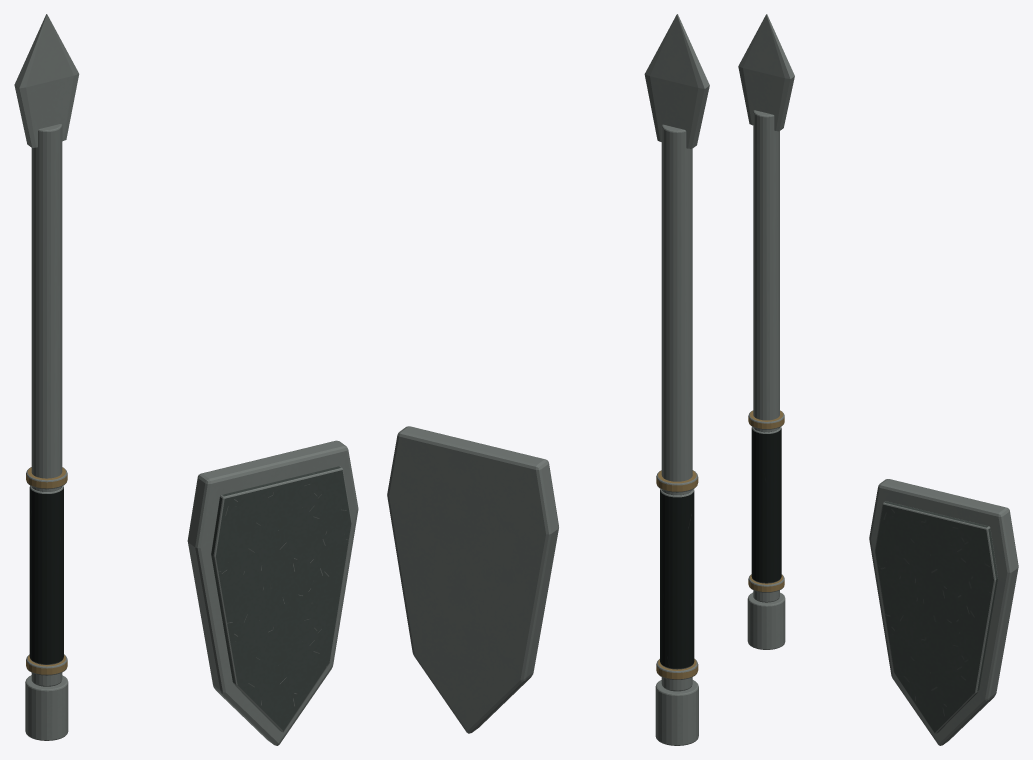
File: spear_shield-t1.glb
3 views of the same model, side by side, from view 1: azimuth 30°, elevation 25°; view 2: azimuth 150°, elevation 25°; view 3: azimuth 330°, elevation 25° (orthographic). The views are drawn at different scales.
Visible parts, largest first — view 1: Shield inset, Steel shaft, Shield forged rim, Continuous two-hand wrap, Forged spear point, Spear rear counterweight; view 2: Shield forged rim, Steel shaft, Continuous two-hand wrap, Forged spear point, Spear rear counterweight, Grip ferrule.001; view 3: Shield inset, Shield forged rim, Steel shaft, Continuous two-hand wrap, Forged spear point, Spear rear counterweight.
Boxes of the visible parts, x1=… form: Shield inset: x1=211, y1=466, x2=351, y2=732; Steel shaft: x1=31, y1=124, x2=62, y2=686; Shield forged rim: x1=187, y1=440, x2=358, y2=745; Continuous two-hand wrap: x1=29, y1=485, x2=63, y2=664; Forged spear point: x1=14, y1=14, x2=79, y2=147; Spear rear counterweight: x1=25, y1=675, x2=68, y2=740; Shield forged rim: x1=387, y1=426, x2=558, y2=733; Steel shaft: x1=661, y1=124, x2=692, y2=691; Continuous two-hand wrap: x1=660, y1=489, x2=694, y2=669; Forged spear point: x1=644, y1=14, x2=709, y2=148; Spear rear counterweight: x1=655, y1=680, x2=698, y2=745; Grip ferrule.001: x1=656, y1=470, x2=698, y2=492; Shield inset: x1=875, y1=501, x2=997, y2=733; Shield forged rim: x1=869, y1=479, x2=1018, y2=745; Steel shaft: x1=753, y1=110, x2=779, y2=602; Continuous two-hand wrap: x1=751, y1=426, x2=781, y2=583; Forged spear point: x1=738, y1=14, x2=794, y2=131; Spear rear counterweight: x1=747, y1=592, x2=785, y2=649.
Size of the model in its own units: 1.52 by 3.44 by 0.267.
Materials: 4 (4 with a texture image).
